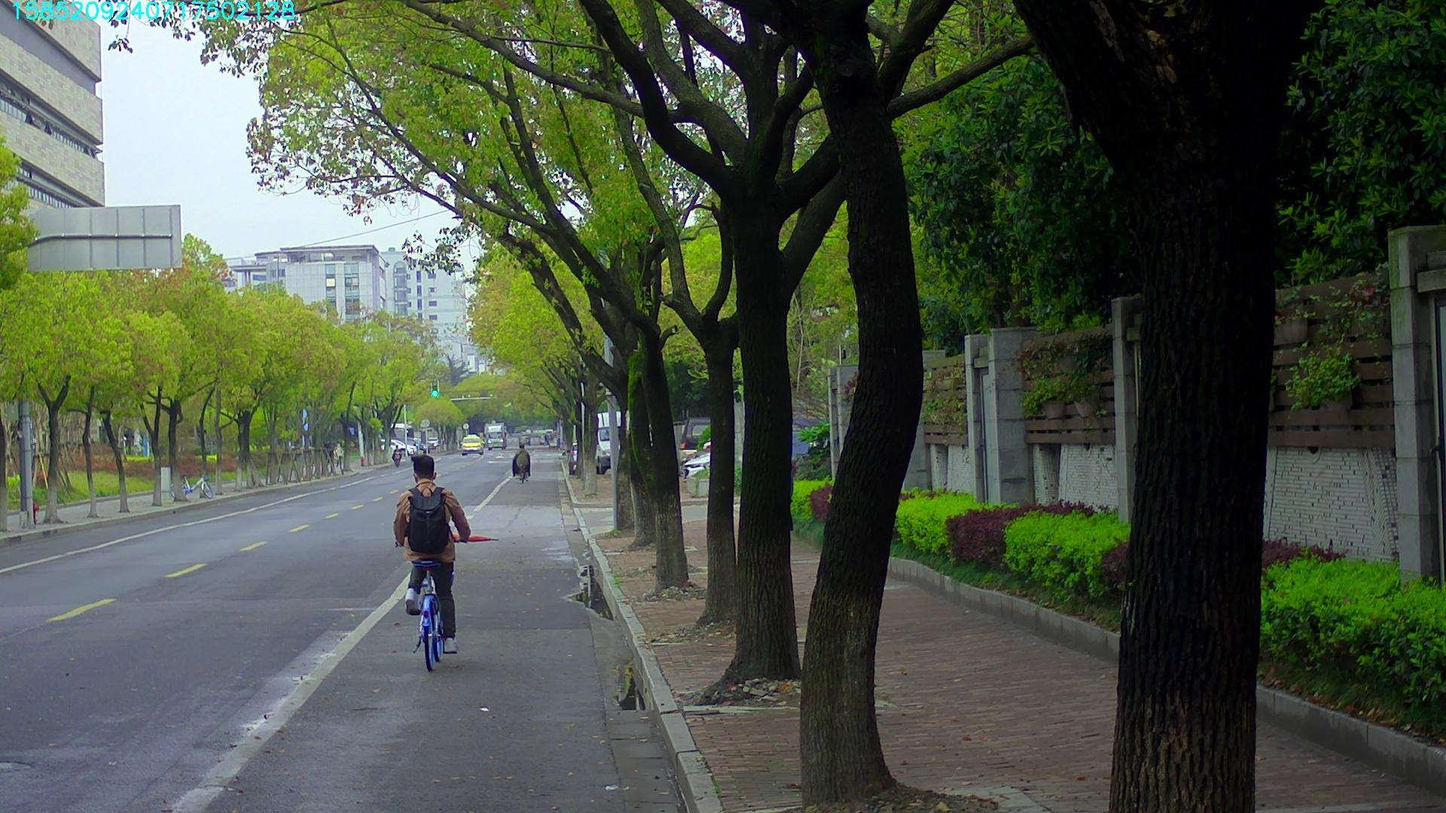green: (430, 379, 438, 397)
